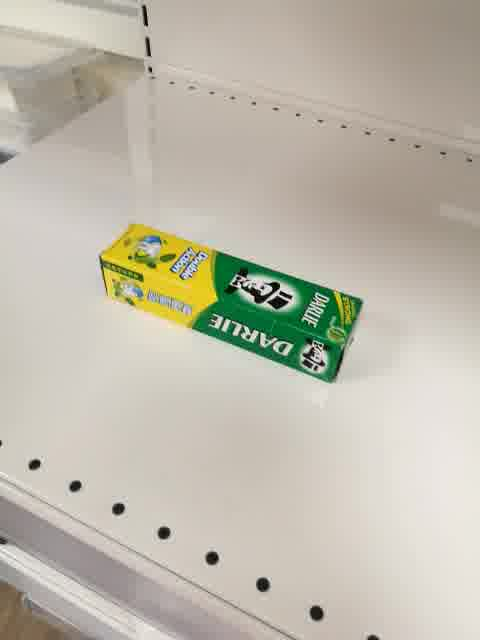toothpaste: (98, 219, 364, 385)
